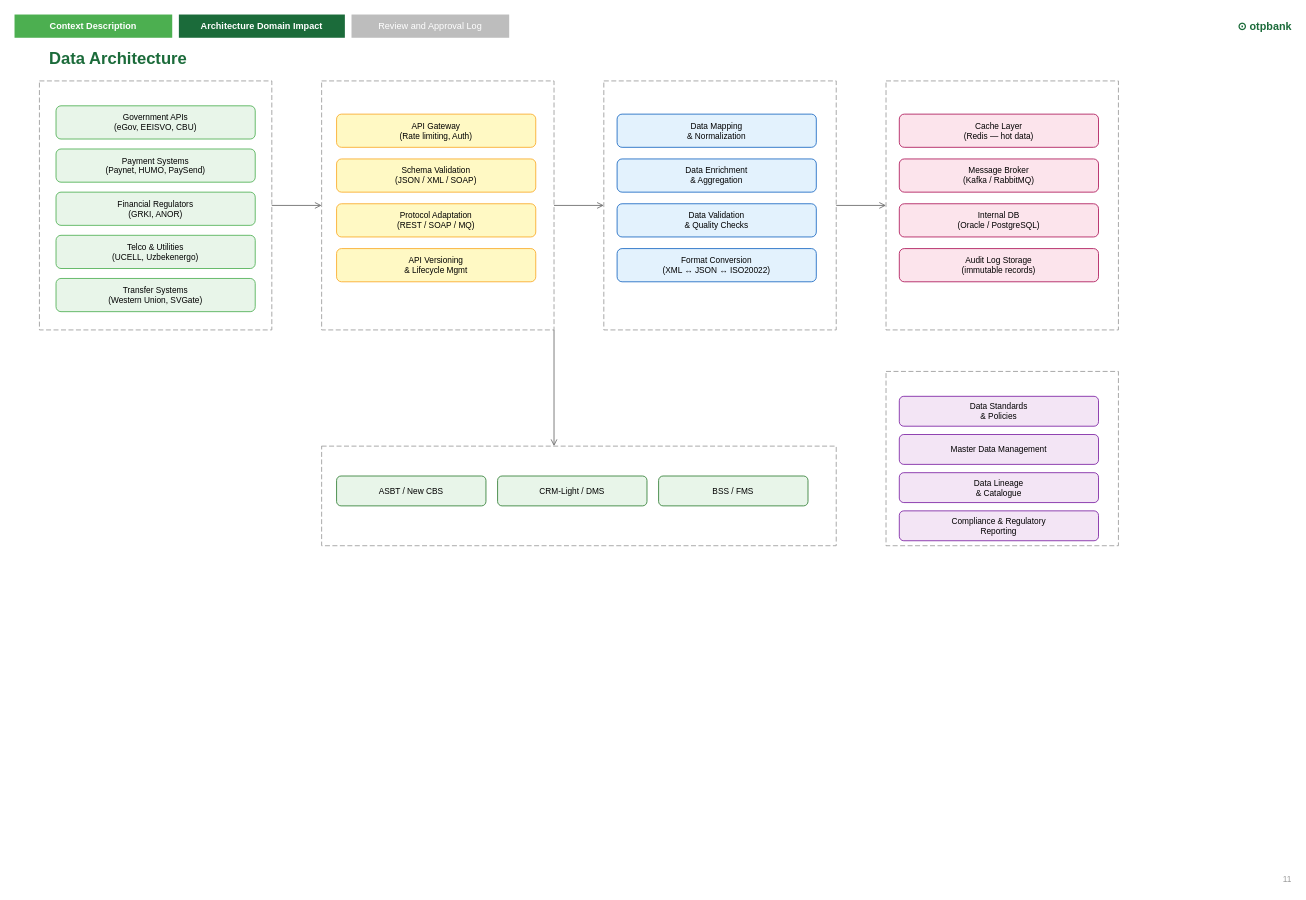
Some shapes in this 1306 by 900 pixel diagram are drawn without their labels. Each missing label, with the box of its shape:
API Gateway Layer: (321, 80, 554, 330)
Data Governance: (885, 371, 1118, 546)
Data Storage Layer: (885, 80, 1118, 330)
Data Transformation Layer: (603, 80, 836, 330)
External Data Sources: (39, 80, 272, 330)
Internal Banking Systems: (321, 445, 836, 546)
